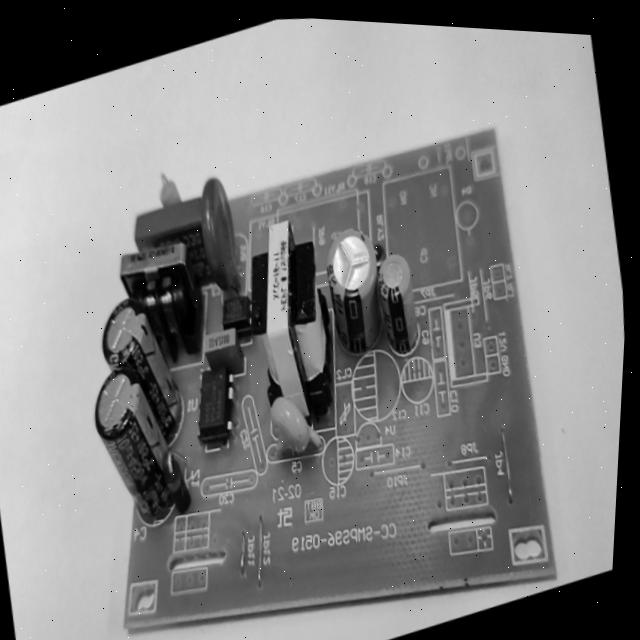Cap1: (310, 211, 400, 374)
Cap2: (366, 242, 431, 369)
Cap3: (85, 274, 198, 463)
Cap4: (76, 347, 197, 555)
MOSFET: (182, 348, 257, 463)
Mov: (187, 164, 257, 313)
Resistor: (151, 164, 196, 252)
Transformer: (222, 193, 357, 440), (95, 211, 221, 384)
